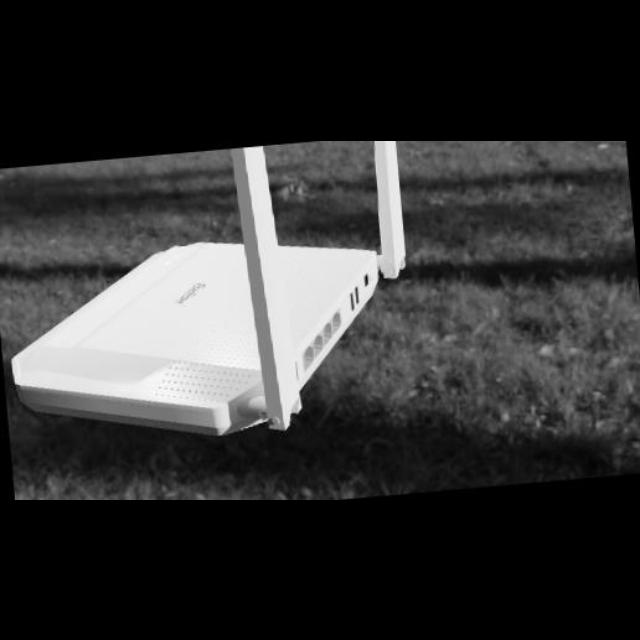Router: (5, 140, 419, 436)
